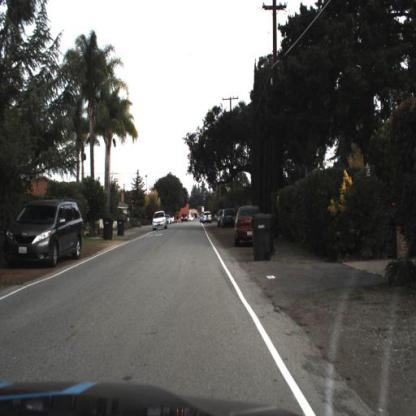car: (5, 195, 84, 268), (232, 205, 266, 246), (237, 207, 264, 249), (152, 209, 169, 230), (153, 212, 168, 234), (203, 212, 212, 227)
